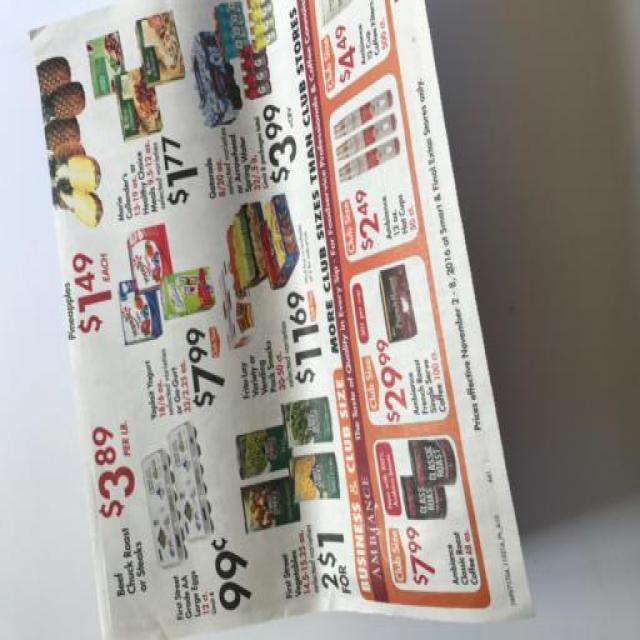paper: (30, 5, 537, 640)
